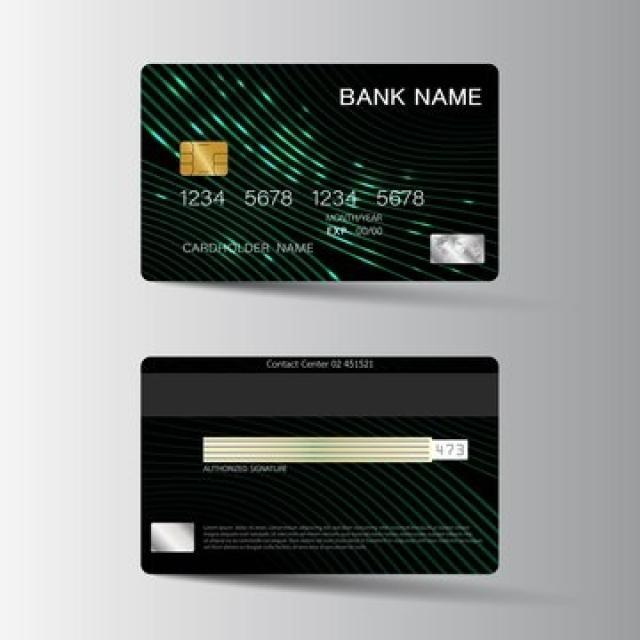payment_card: (139, 61, 500, 283), (139, 355, 499, 575)
